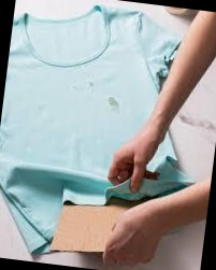oil: (105, 91, 131, 116), (66, 80, 80, 95), (90, 79, 97, 87)
